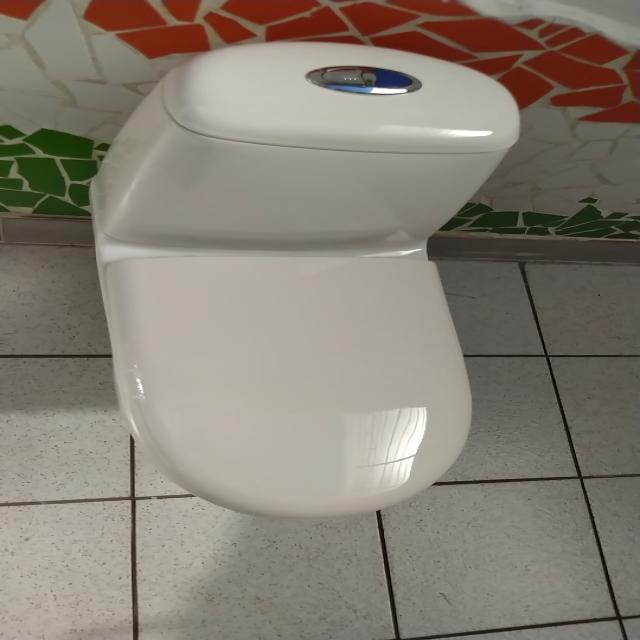toilet: (88, 40, 521, 519)
